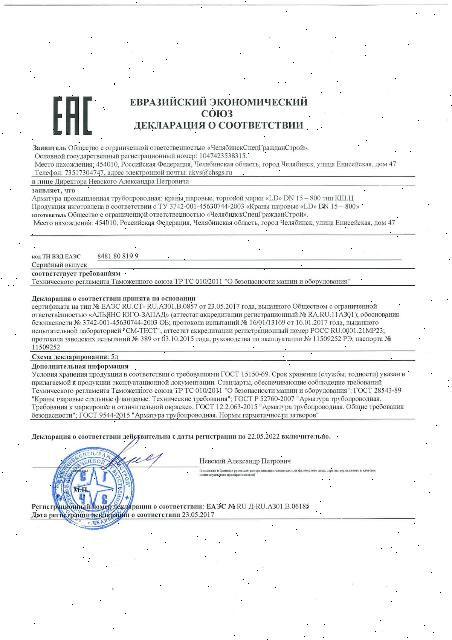stamp: (52, 446, 132, 532)
